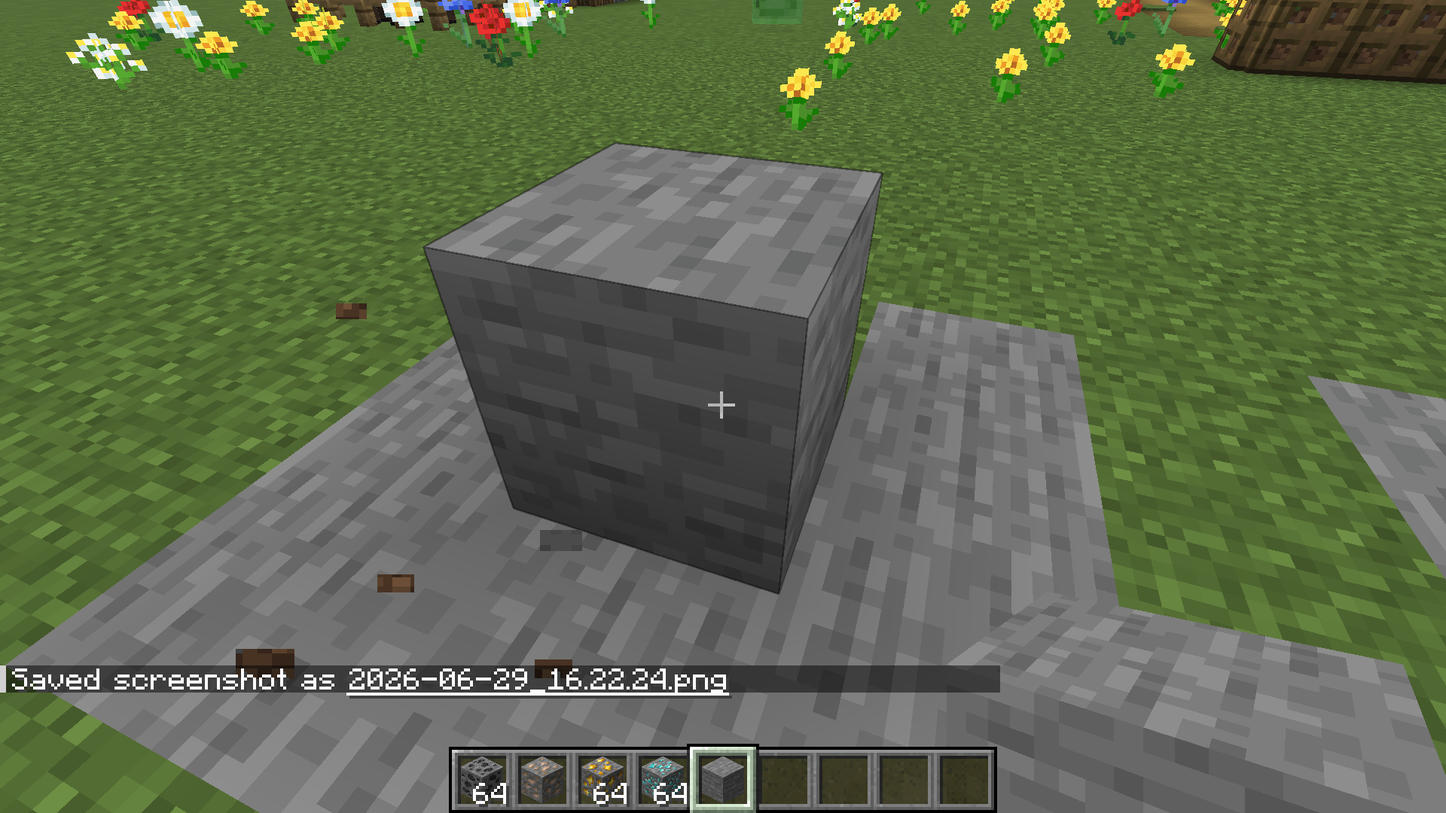stone: (428, 140, 882, 589)
